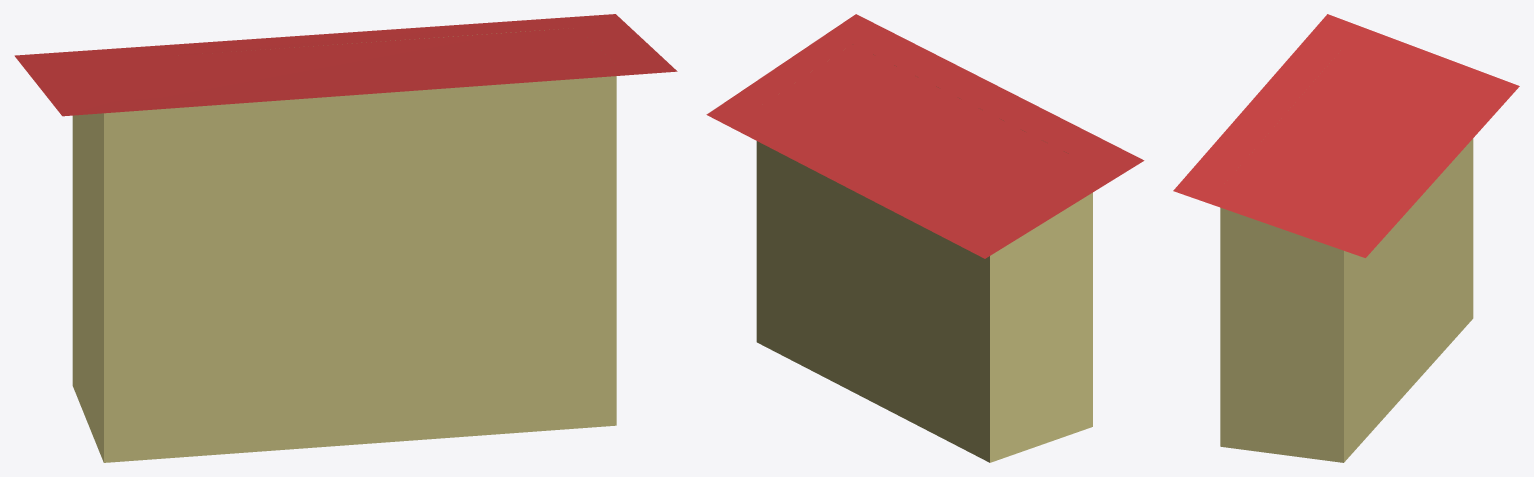
The picture shows the model from 3 angles, left to right: view 1: azimuth 30°, elevation 25°; view 2: azimuth 150°, elevation 25°; view 3: azimuth 270°, elevation 25°; orthographic projection. The views are drawn at different scales.
Bounding box in the file's own units: 9.91 × 7.18 × 6.06.
